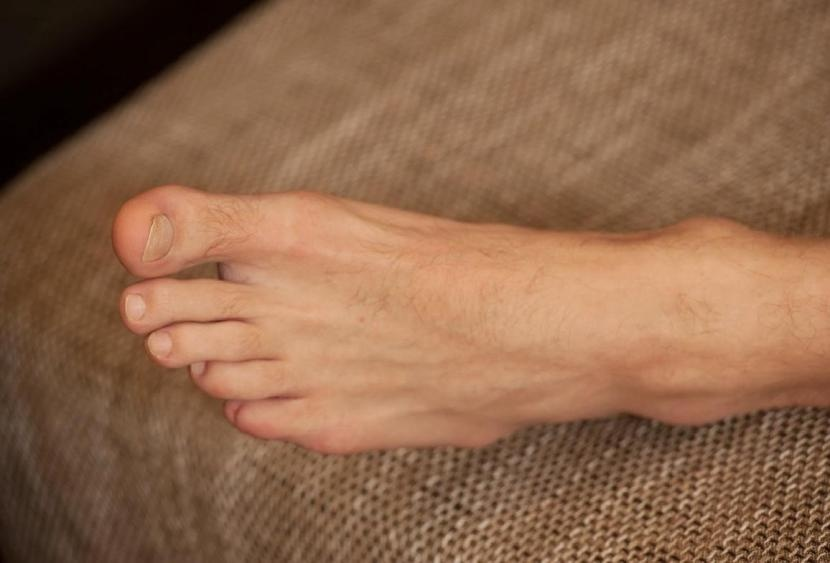feet: (86, 158, 799, 462)
